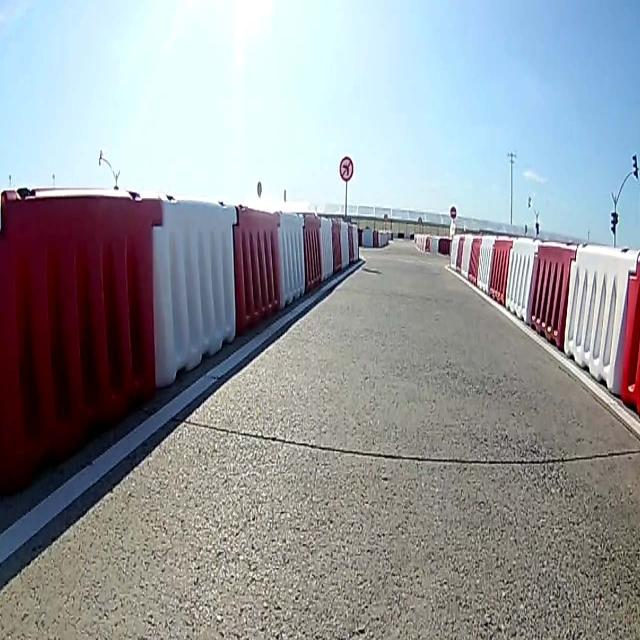soladonulmez: (339, 153, 353, 181)
